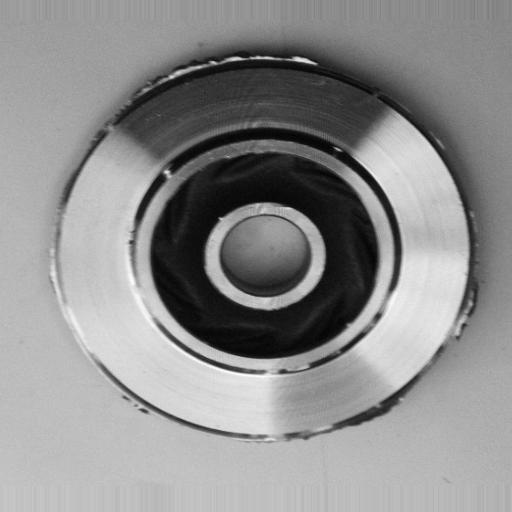casting_with_burr: (43, 49, 484, 445)
scratch: (122, 196, 162, 333), (367, 248, 417, 336), (253, 354, 319, 385), (148, 156, 187, 189)
